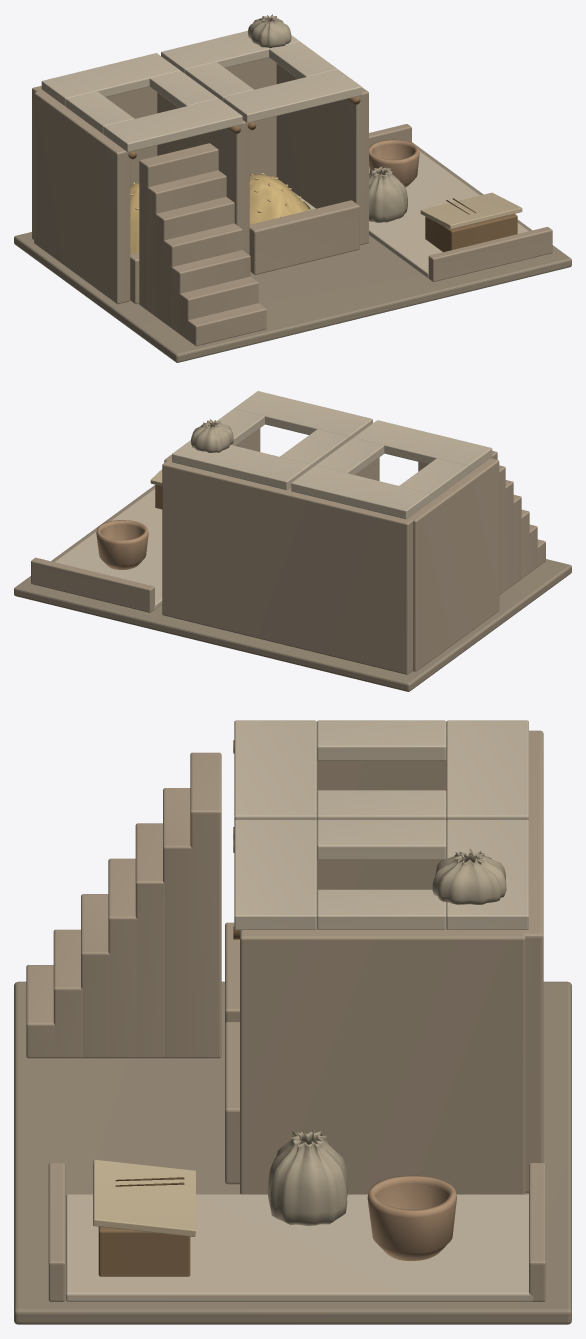
The model's file is joseph-granary.glb.
The picture shows the model from 3 angles, top to bottom: view 1: azimuth 30°, elevation 25°; view 2: azimuth 150°, elevation 25°; view 3: azimuth 270°, elevation 25°; orthographic projection. The views are drawn at different scales.
Visible parts, largest first — view 1: joseph-granary-joseph-mud-masonry-comparison, joseph-granary-joseph-earth-plaster-comparison.001, joseph-granary-joseph-mud-masonry-comparison.001, joseph-granary-joseph-courtyard-earth, joseph-granary-joseph-earth-plaster-comparison.002, joseph-granary-joseph-mud-masonry-comparison.002, joseph-granary-joseph-unspecified-timber.001, joseph-granary-joseph-uninscribed-recording-surface, joseph-granary-joseph-unspecified-grain.001, joseph-granary-joseph-undyed-woven-fibre.001, joseph-granary-joseph-comparison-earthenware, joseph-granary-joseph-undyed-woven-fibre (+1 smaller); view 2: joseph-granary-joseph-mud-masonry-comparison, joseph-granary-joseph-earth-plaster-comparison.001, joseph-granary-joseph-courtyard-earth, joseph-granary-joseph-earth-plaster-comparison.002, joseph-granary-joseph-mud-masonry-comparison.001, joseph-granary-joseph-mud-masonry-comparison.002, joseph-granary-joseph-comparison-earthenware, joseph-granary-joseph-undyed-woven-fibre; view 3: joseph-granary-joseph-mud-masonry-comparison, joseph-granary-joseph-courtyard-earth, joseph-granary-joseph-earth-plaster-comparison.001, joseph-granary-joseph-mud-masonry-comparison.001, joseph-granary-joseph-earth-plaster-comparison.002, joseph-granary-joseph-uninscribed-recording-surface, joseph-granary-joseph-comparison-earthenware, joseph-granary-joseph-undyed-woven-fibre.001, joseph-granary-joseph-mud-masonry-comparison.002, joseph-granary-joseph-unspecified-timber.001, joseph-granary-joseph-undyed-woven-fibre.
Boxes of the visible parts, bbox=[...] form: joseph-granary-joseph-mud-masonry-comparison: bbox=[32, 57, 368, 304]; joseph-granary-joseph-earth-plaster-comparison.001: bbox=[41, 30, 361, 152]; joseph-granary-joseph-mud-masonry-comparison.001: bbox=[139, 143, 266, 346]; joseph-granary-joseph-courtyard-earth: bbox=[14, 142, 571, 362]; joseph-granary-joseph-earth-plaster-comparison.002: bbox=[369, 151, 528, 278]; joseph-granary-joseph-mud-masonry-comparison.002: bbox=[369, 124, 552, 281]; joseph-granary-joseph-unspecified-timber.001: bbox=[425, 214, 517, 252]; joseph-granary-joseph-uninscribed-recording-surface: bbox=[420, 192, 522, 229]; joseph-granary-joseph-unspecified-grain.001: bbox=[249, 173, 310, 224]; joseph-granary-joseph-undyed-woven-fibre.001: bbox=[369, 166, 407, 222]; joseph-granary-joseph-comparison-earthenware: bbox=[369, 139, 419, 187]; joseph-granary-joseph-undyed-woven-fibre: bbox=[248, 14, 291, 48]; joseph-granary-joseph-mud-masonry-comparison: bbox=[162, 428, 499, 674]; joseph-granary-joseph-earth-plaster-comparison.001: bbox=[172, 391, 492, 519]; joseph-granary-joseph-courtyard-earth: bbox=[14, 485, 571, 691]; joseph-granary-joseph-earth-plaster-comparison.002: bbox=[55, 488, 162, 609]; joseph-granary-joseph-mud-masonry-comparison.001: bbox=[418, 451, 545, 594]; joseph-granary-joseph-mud-masonry-comparison.002: bbox=[31, 557, 154, 612]; joseph-granary-joseph-comparison-earthenware: bbox=[96, 520, 148, 569]; joseph-granary-joseph-undyed-woven-fibre: bbox=[191, 419, 233, 452]; joseph-granary-joseph-mud-masonry-comparison: bbox=[225, 730, 543, 1194]; joseph-granary-joseph-courtyard-earth: bbox=[14, 981, 571, 1324]; joseph-granary-joseph-earth-plaster-comparison.001: bbox=[234, 720, 528, 930]; joseph-granary-joseph-mud-masonry-comparison.001: bbox=[26, 752, 221, 1058]; joseph-granary-joseph-earth-plaster-comparison.002: bbox=[66, 1194, 533, 1301]; joseph-granary-joseph-uninscribed-recording-surface: bbox=[93, 1159, 195, 1236]; joseph-granary-joseph-comparison-earthenware: bbox=[367, 1175, 456, 1260]; joseph-granary-joseph-undyed-woven-fibre.001: bbox=[267, 1130, 347, 1225]; joseph-granary-joseph-mud-masonry-comparison.002: bbox=[48, 1163, 545, 1301]; joseph-granary-joseph-unspecified-timber.001: bbox=[98, 1226, 190, 1276]; joseph-granary-joseph-undyed-woven-fibre: bbox=[432, 848, 506, 904].
Bounding box in the file's own units: 1.4 × 0.6504 × 1.
